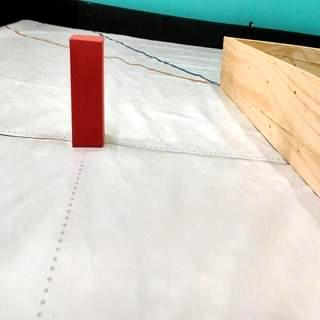redbox: (70, 33, 103, 149)
